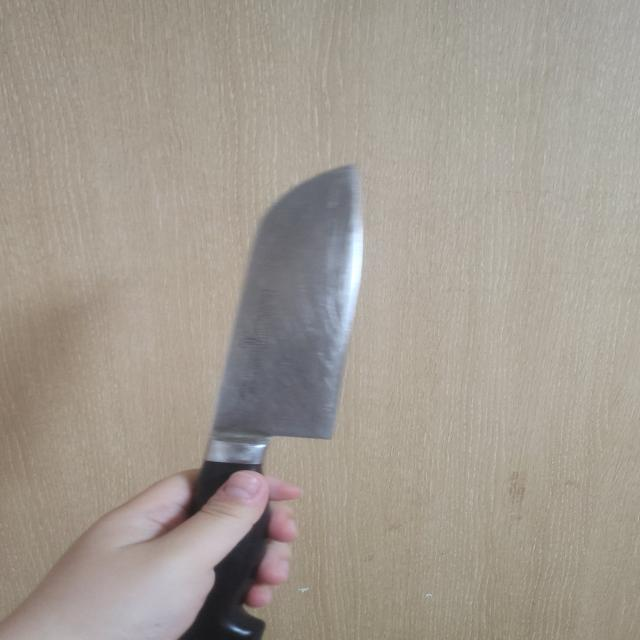knife: (165, 163, 362, 638)
